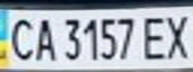1: (78, 15, 100, 61)
3: (57, 15, 81, 62)
5: (96, 14, 121, 61)
7: (115, 14, 142, 61)
A: (30, 15, 57, 63)
C: (3, 14, 39, 63)
E: (139, 11, 172, 61)
X: (160, 11, 193, 61)
